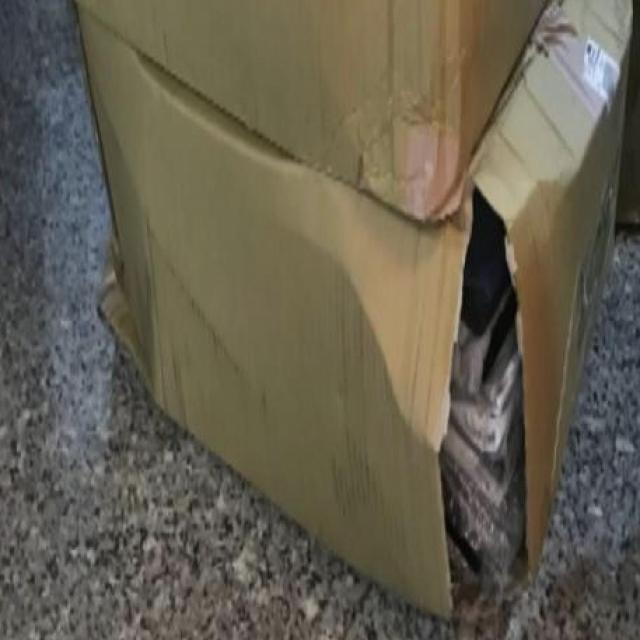damaged: (433, 180, 542, 615)
